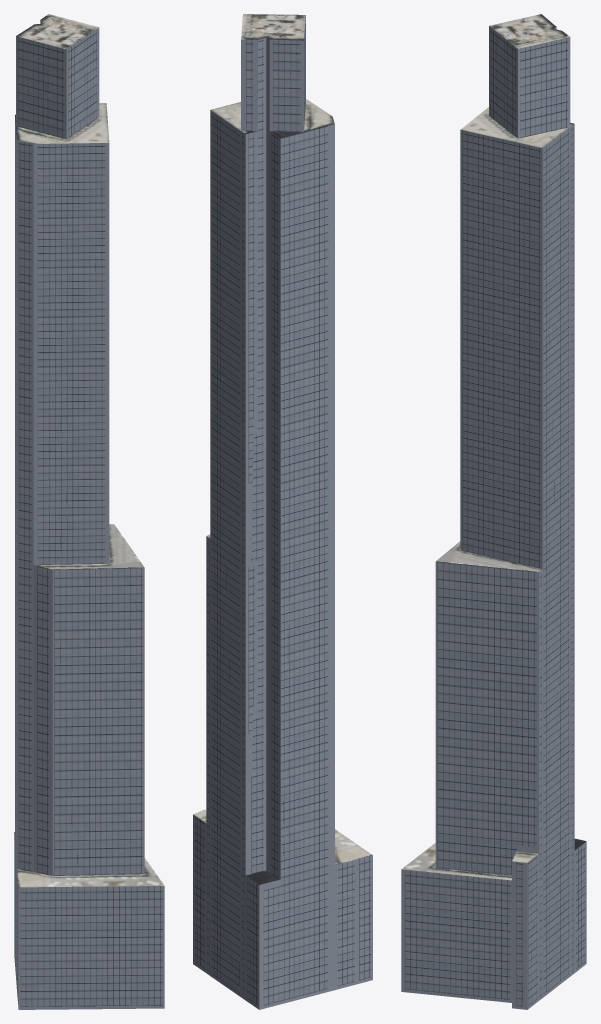
Rendered from building44.fbx.
The picture shows the model from 3 angles, left to right: view 1: azimuth 30°, elevation 25°; view 2: azimuth 150°, elevation 25°; view 3: azimuth 270°, elevation 25°; orthographic projection.
Parts seen in each view (by area): view 1: Object.1668, geometryt040100010000000110110100110010010000010st161_1_510a, geometryt040100010000000110110100110010010000010st162_1_8207; view 2: Object.1668, geometryt040100010000000110110100110010010000010st161_1_510a, geometryt040100010000000110110100110010010000010st162_1_8207; view 3: Object.1668, geometryt040100010000000110110100110010010000010st161_1_510a, geometryt040100010000000110110100110010010000010st162_1_8207.
Boxes of the visible parts, box(x1,y1,x2,y2) form: Object.1668: box(14, 29, 162, 1006); geometryt040100010000000110110100110010010000010st161_1_510a: box(14, 27, 164, 1009); geometryt040100010000000110110100110010010000010st162_1_8207: box(14, 14, 164, 887); Object.1668: box(194, 20, 371, 1005); geometryt040100010000000110110100110010010000010st161_1_510a: box(193, 16, 372, 1009); geometryt040100010000000110110100110010010000010st162_1_8207: box(193, 14, 372, 884); Object.1668: box(405, 27, 585, 1006); geometryt040100010000000110110100110010010000010st161_1_510a: box(401, 26, 586, 1009); geometryt040100010000000110110100110010010000010st162_1_8207: box(401, 14, 586, 880).
Size of the model in its own units: 3795 by 23000 by 4117.
Materials: 3 (3 with a texture image).
